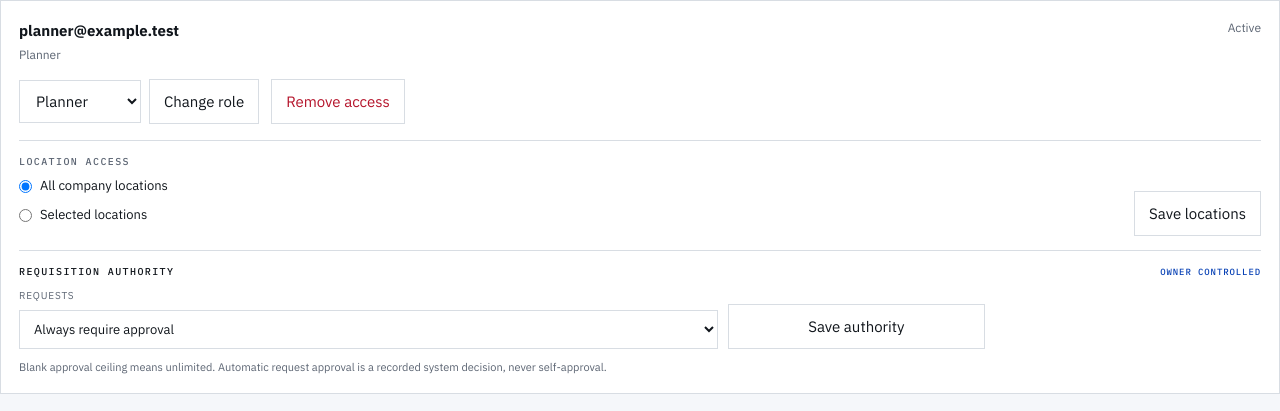
Scenario: owner-controlled requisition authority › lets an owner choose an explicit requester mode and reveals its amount field
Select "Approve automatically up to a limit" in the dropdown named "Request authority for planner@example.test" at (369, 329), box [19,310,718,349]
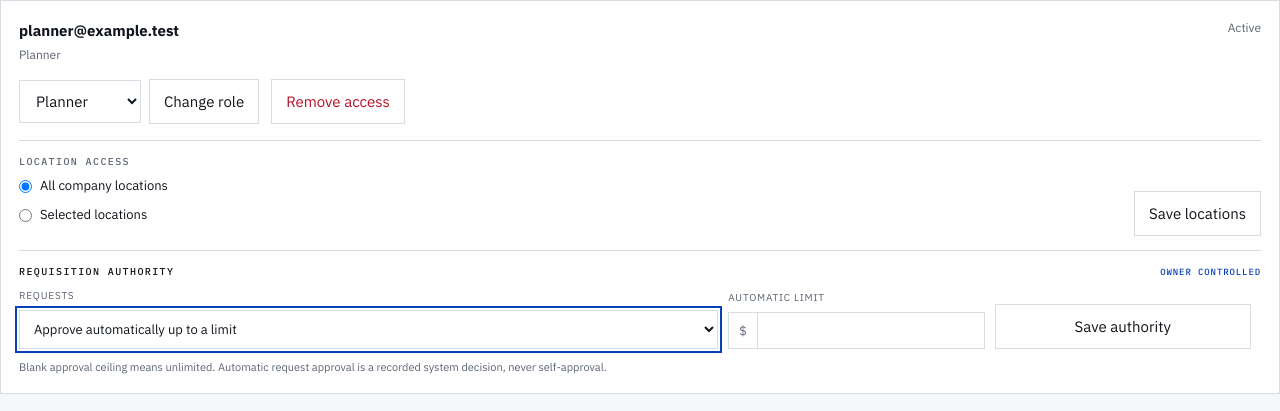
Check: the button "Save authority" is shown, box [995,304,1251,349]
Check: the number field named "Automatic request limit for planner@example.test" is shown, box [757,313,984,348]
